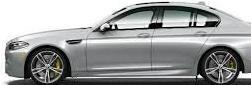Cars: (7, 4, 251, 85)
